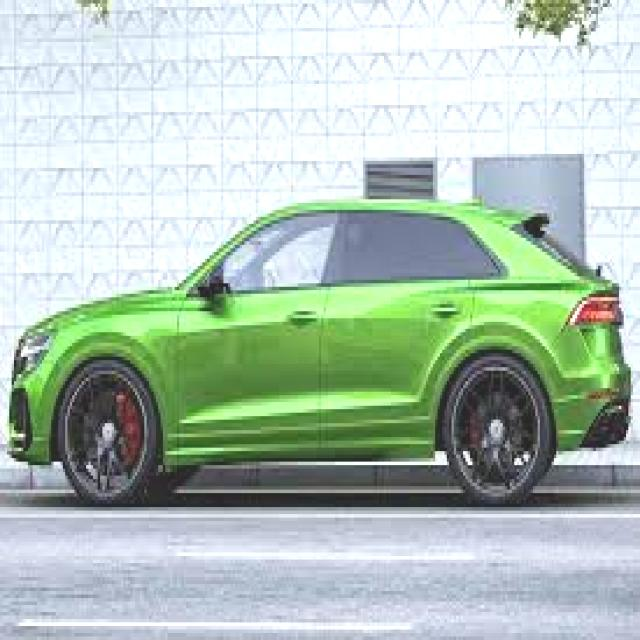SUV: (8, 193, 634, 513)
